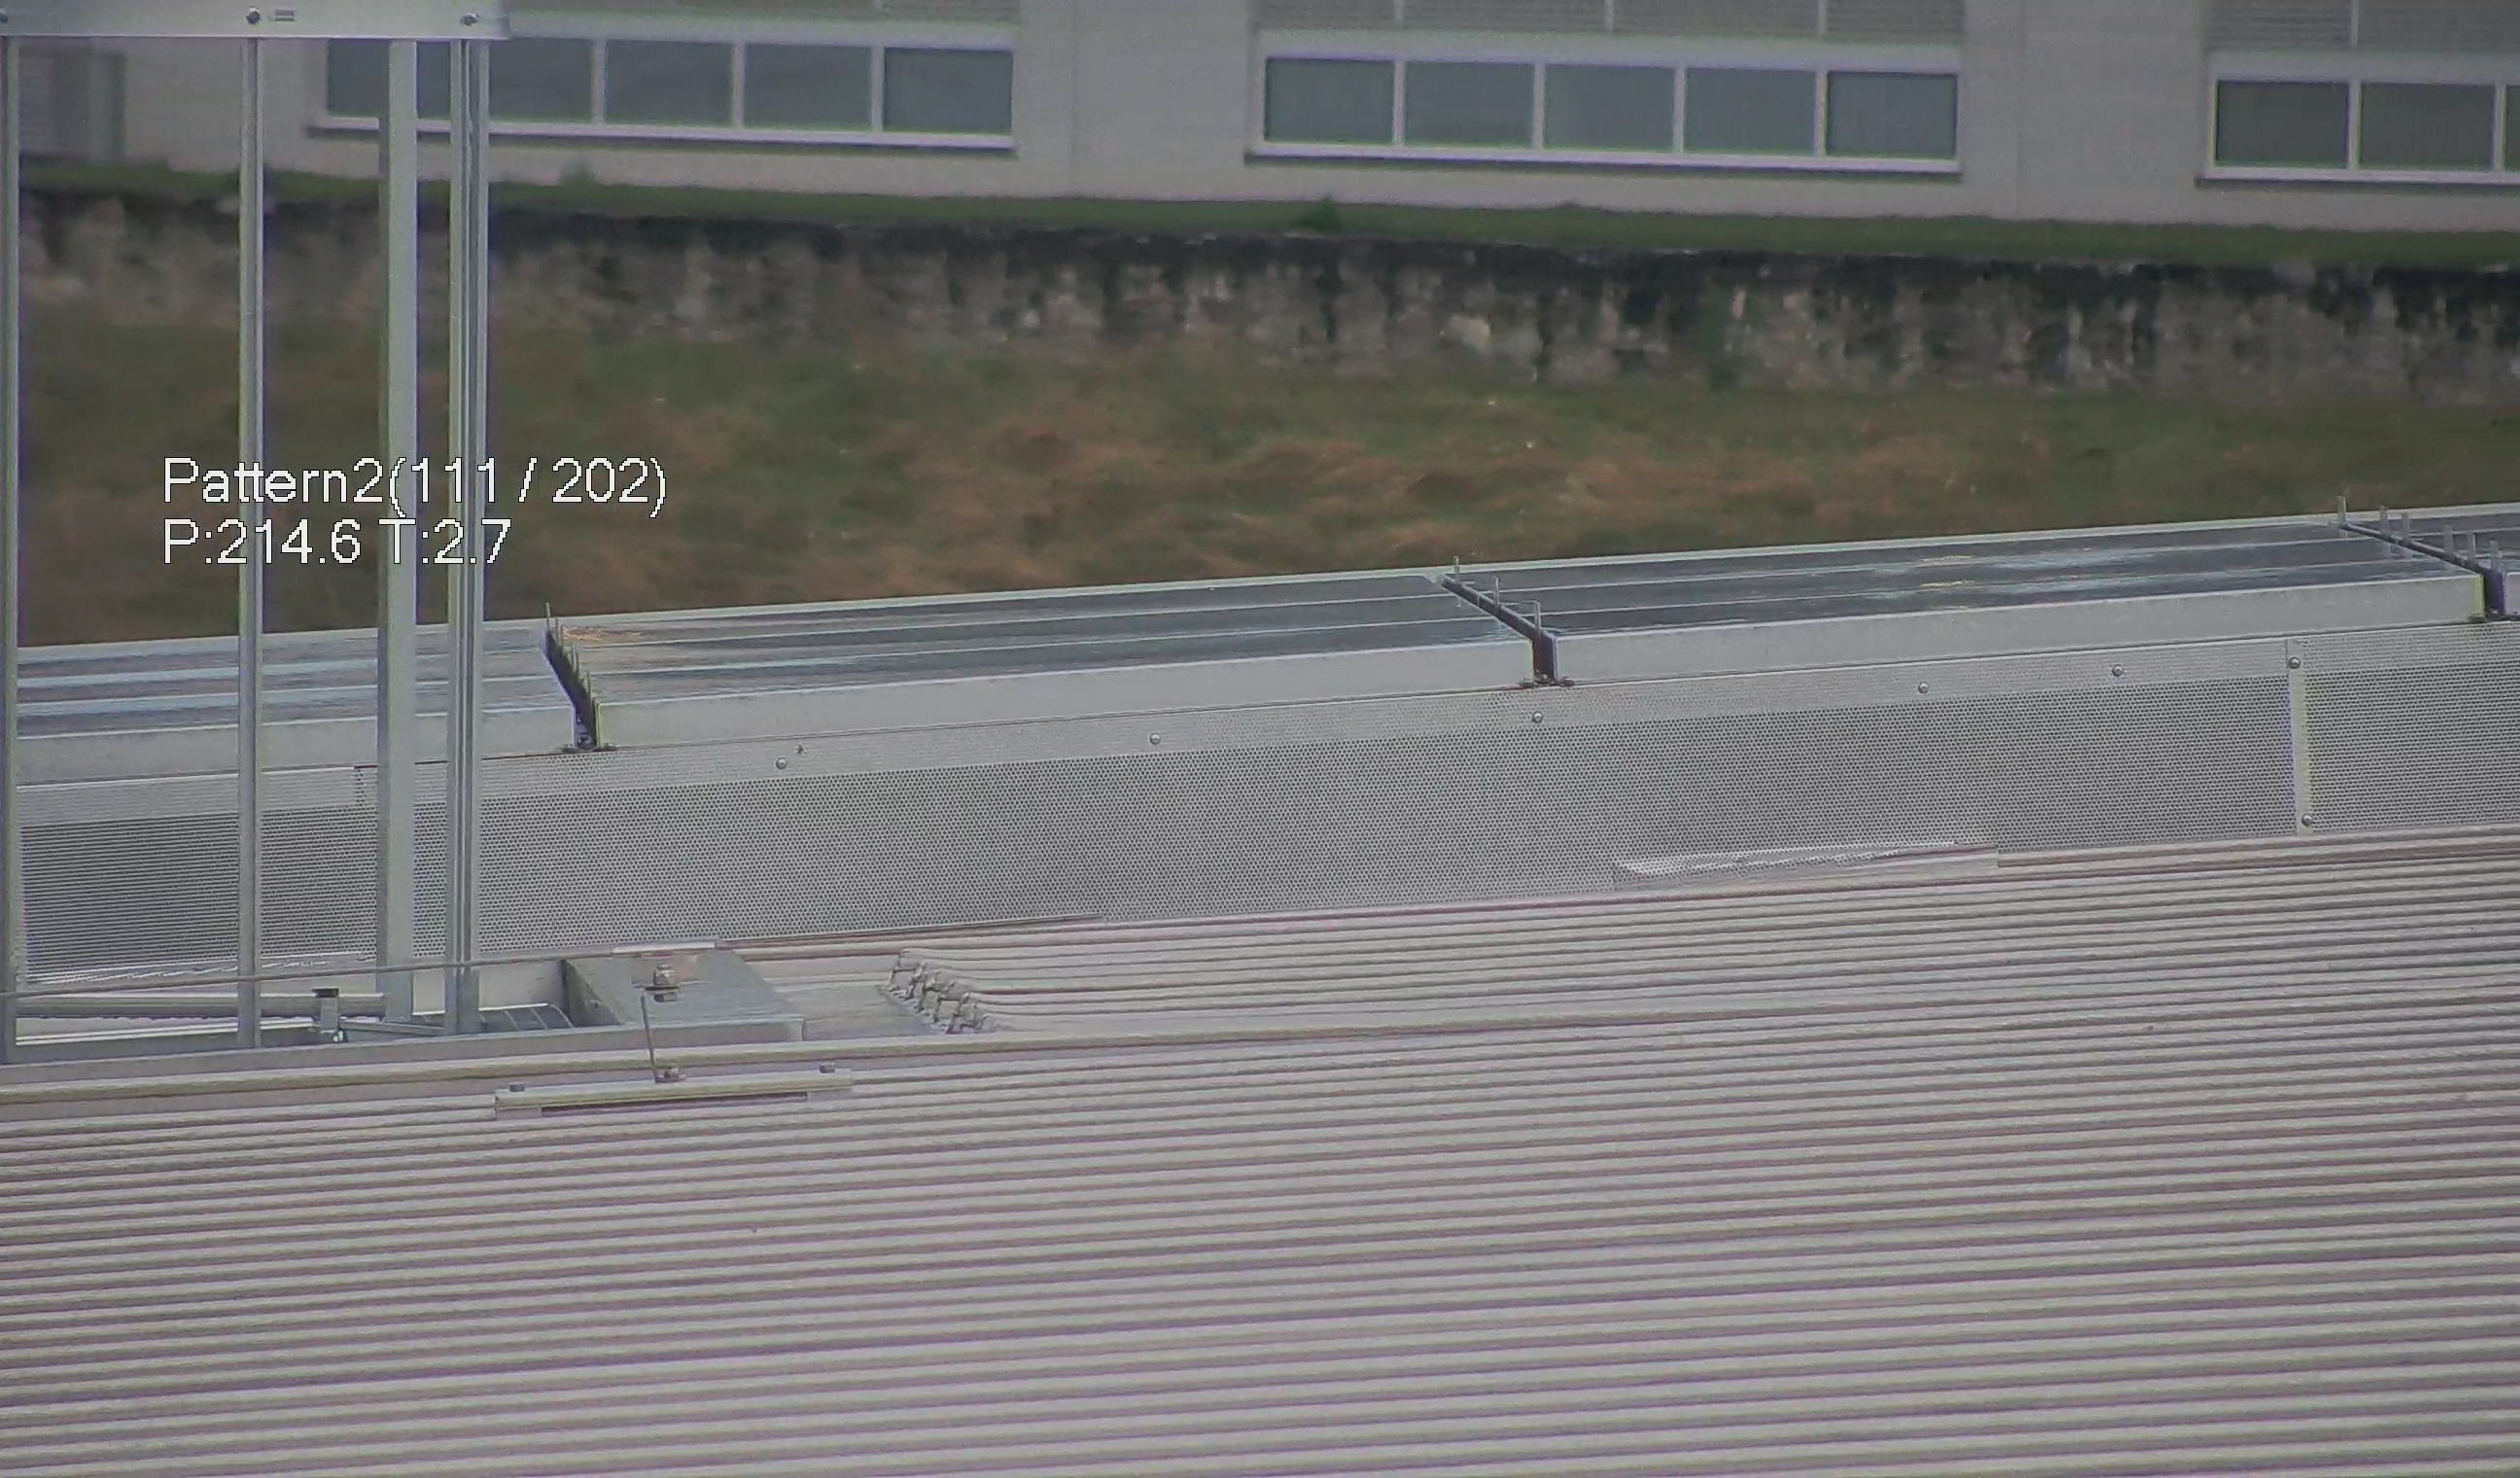Other: (508, 598, 605, 757)
